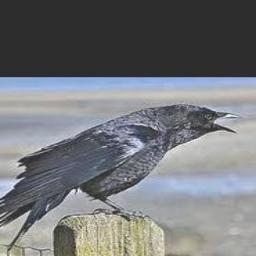Crow: (0, 103, 242, 251)
